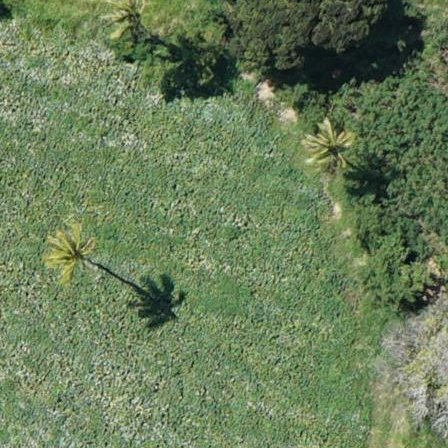palm_tree: (298, 116, 355, 178), (47, 225, 96, 278), (103, 1, 157, 41)
